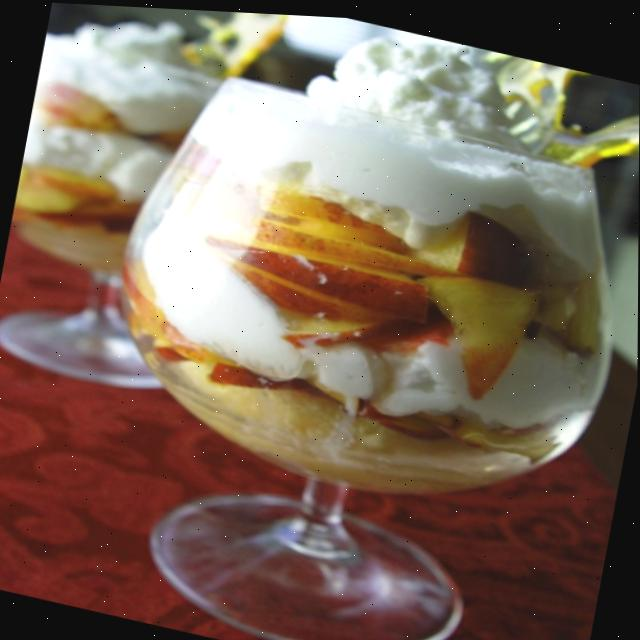蛋糕甜品: (52, 2, 640, 640)
